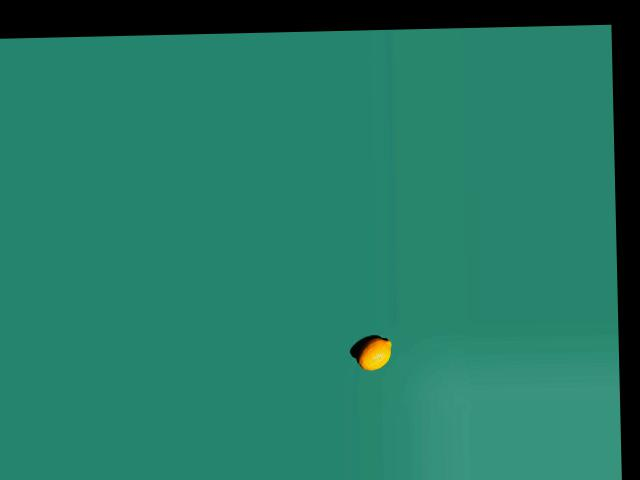lemon: (346, 332, 394, 370)
